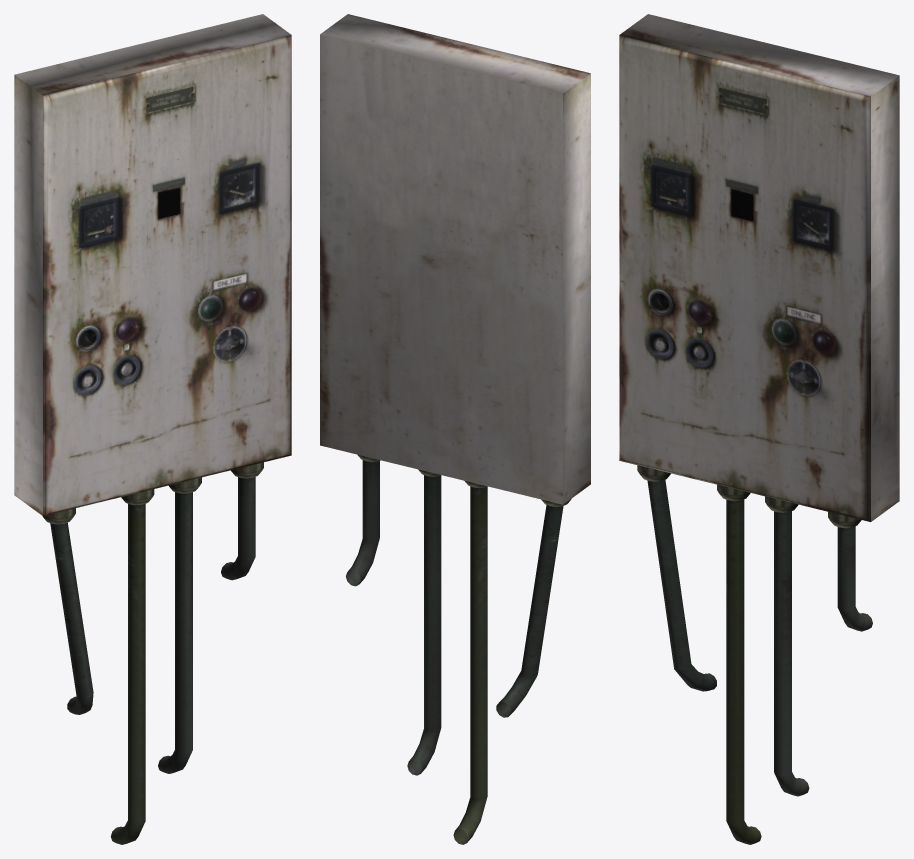
The model's file is control_box_0003.fbx.
3 renders of one model, left to right at view 1: azimuth 30°, elevation 25°; view 2: azimuth 150°, elevation 25°; view 3: azimuth 330°, elevation 25°, orthographic. The views are drawn at different scales.
Parts seen in each view (by area): view 1: Mesh; view 2: Mesh; view 3: Mesh.
Boxes of the visible parts, x1=… form: Mesh: x1=14, y1=14, x2=291, y2=844; Mesh: x1=320, y1=14, x2=590, y2=844; Mesh: x1=619, y1=14, x2=899, y2=844.
Bounding box in the file's own units: 45.48 × 139 × 9.83.
